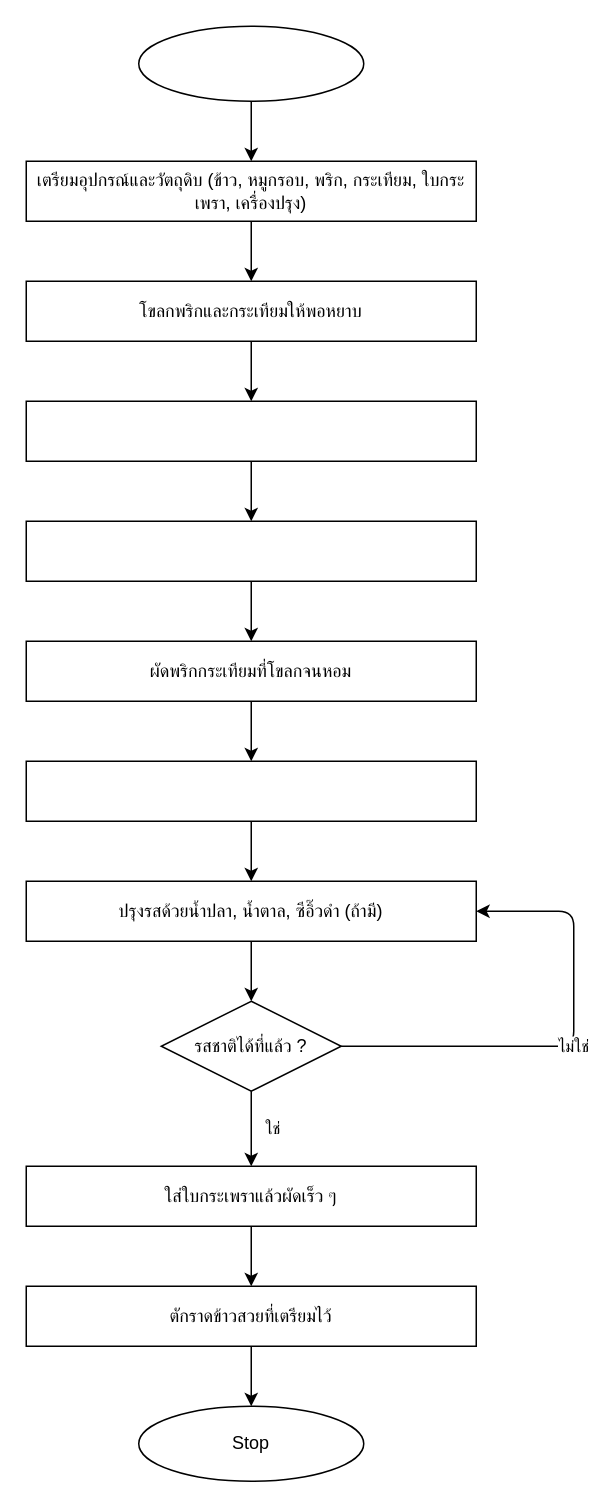
This 615x1508 diagram has some shape labels left out. The shapes that lost their labels are listed below. From the top down, each one's box as (x1, y1, x2, y2) in pixels, then its label:
(137, 25, 364, 101): Start
(25, 400, 476, 461): หั่นหมูกรอบเป็นชิ้นพอดีคำ
(25, 520, 476, 581): ตั้งกระทะและใส่น้ำมันให้ร้อน
(25, 760, 476, 821): ใส่หมูกรอบลงผัด
